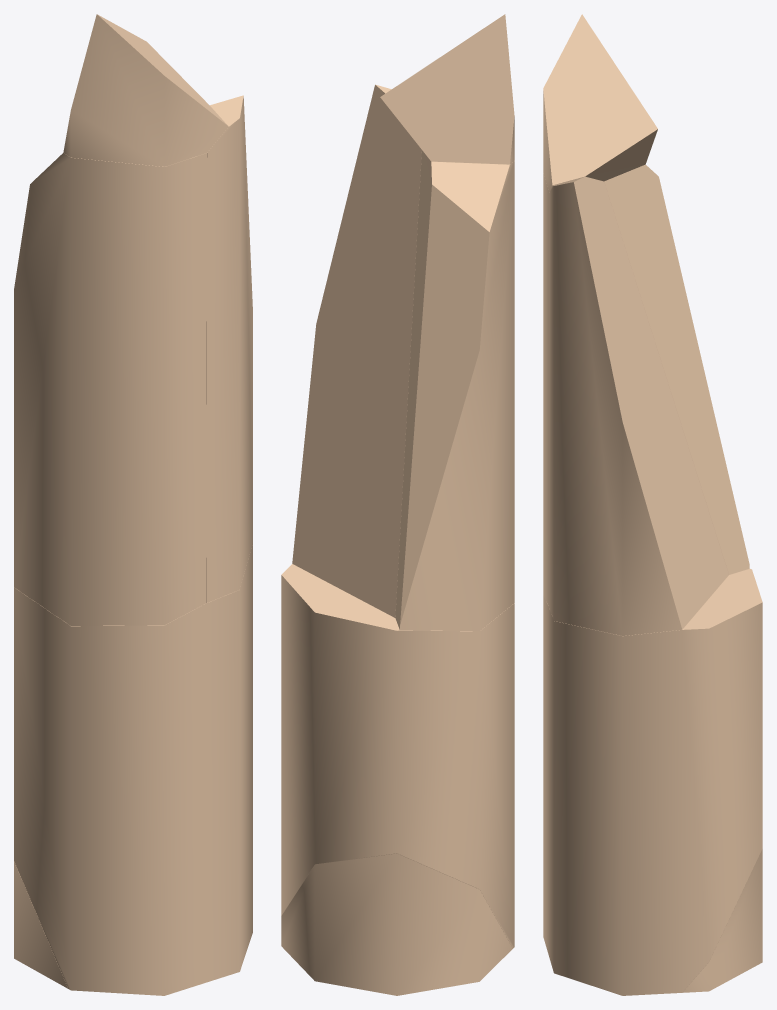
The model's file is PillarB_brokenA.fbx.
3 views of the same model, side by side, from view 1: azimuth 30°, elevation 25°; view 2: azimuth 150°, elevation 25°; view 3: azimuth 270°, elevation 25° (orthographic). The views are drawn at different scales.
Visible parts, largest first — view 1: PillarB_brokenA; view 2: PillarB_brokenA; view 3: PillarB_brokenA.
Part boxes in pixels (box(x1,y1,x2,y2)): PillarB_brokenA: box(14, 14, 252, 995); PillarB_brokenA: box(281, 14, 514, 995); PillarB_brokenA: box(543, 14, 762, 995).
Size of the model in its own units: 285 by 1292 by 285.
